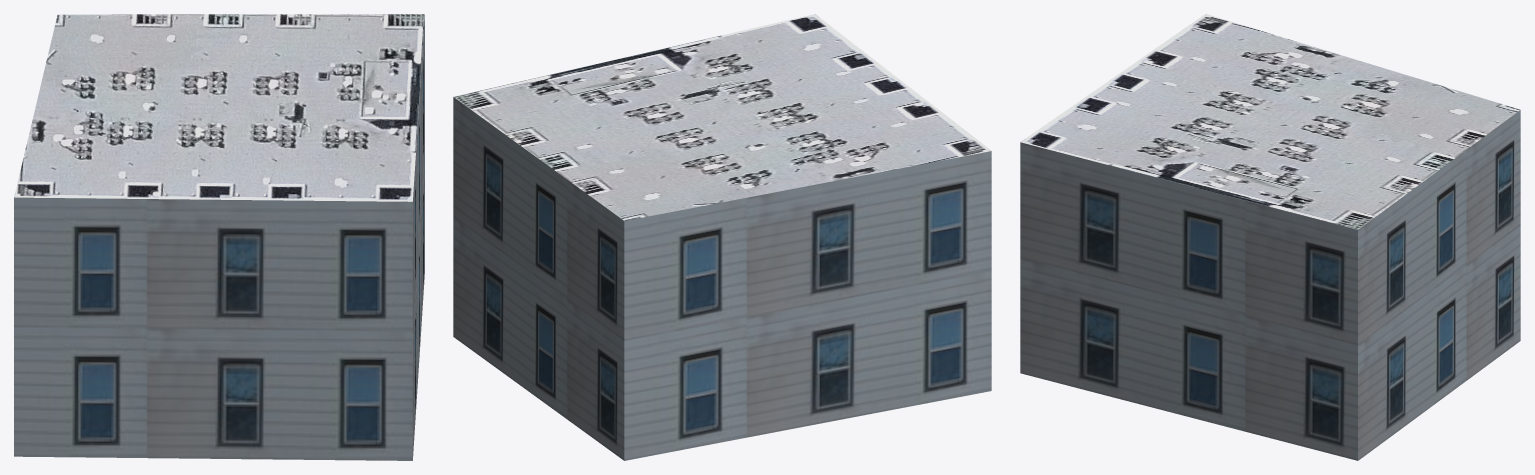
The model's file is ResTex__3217.fbx.
The picture shows the model from 3 angles, left to right: view 1: azimuth 30°, elevation 25°; view 2: azimuth 150°, elevation 25°; view 3: azimuth 270°, elevation 25°; orthographic projection. The views are drawn at different scales.
Visible parts, largest first — view 1: CityEngineMaterial_18_m, CityEngineMaterial_4_m; view 2: CityEngineMaterial_18_m, CityEngineMaterial_4_m; view 3: CityEngineMaterial_18_m, CityEngineMaterial_4_m.
Part boxes in pixels (x1=…): CityEngineMaterial_18_m: x1=14, y1=15, x2=424, y2=460; CityEngineMaterial_4_m: x1=14, y1=14, x2=424, y2=201; CityEngineMaterial_18_m: x1=453, y1=97, x2=991, y2=460; CityEngineMaterial_4_m: x1=453, y1=14, x2=990, y2=220; CityEngineMaterial_18_m: x1=1020, y1=110, x2=1520, y2=460; CityEngineMaterial_4_m: x1=1020, y1=14, x2=1520, y2=229.
Bounding box in the file's own units: 12.03 × 6 × 11.78.
2 materials, 2 textured.
